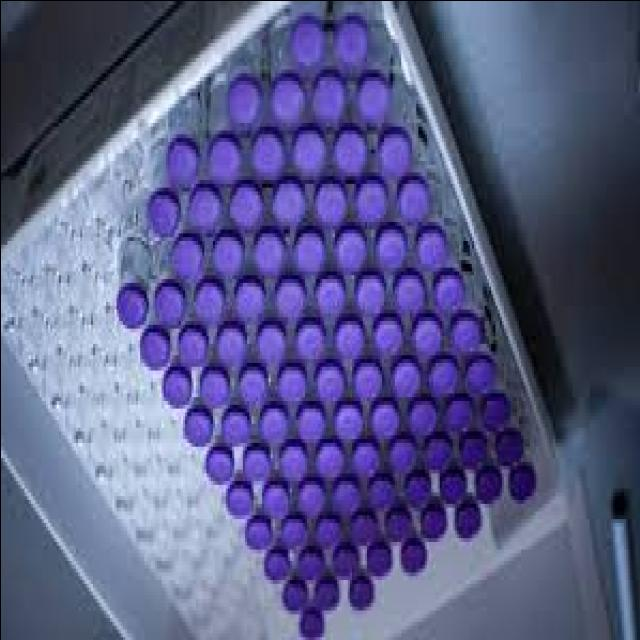vial: (306, 76, 343, 122), (289, 22, 325, 68), (335, 18, 367, 68), (290, 130, 326, 174), (112, 280, 146, 325), (272, 184, 305, 230), (355, 81, 386, 128), (337, 140, 368, 186), (233, 182, 260, 234), (254, 230, 282, 280), (186, 192, 224, 228), (391, 189, 427, 227), (208, 136, 236, 184), (332, 317, 363, 360), (354, 274, 384, 318), (226, 78, 252, 128), (444, 306, 478, 344), (275, 364, 307, 404), (154, 286, 184, 328), (394, 362, 424, 404), (461, 358, 491, 400), (293, 318, 320, 364), (137, 325, 167, 365), (212, 237, 242, 277), (269, 89, 303, 123), (202, 448, 234, 484), (197, 278, 220, 328), (200, 370, 230, 408), (248, 132, 278, 170), (315, 276, 345, 314), (311, 190, 345, 223), (168, 144, 196, 184), (408, 399, 438, 436), (333, 398, 358, 442), (162, 368, 188, 410), (296, 230, 322, 272), (417, 506, 449, 540), (376, 232, 406, 268), (314, 362, 342, 400), (423, 360, 453, 395), (261, 406, 287, 446), (336, 233, 362, 273), (332, 476, 359, 514), (275, 278, 299, 320), (370, 404, 398, 440), (357, 184, 385, 220), (452, 506, 479, 543), (381, 141, 408, 178), (491, 433, 524, 463), (298, 404, 324, 442), (327, 546, 355, 581), (221, 408, 248, 444), (258, 328, 285, 364), (452, 433, 482, 465), (436, 276, 464, 310), (374, 321, 399, 359), (262, 476, 284, 518), (240, 362, 262, 404), (436, 466, 464, 499), (504, 466, 532, 499), (414, 321, 440, 356), (346, 581, 374, 613), (180, 328, 206, 362), (394, 276, 420, 310), (356, 368, 382, 401), (220, 326, 242, 364), (428, 434, 450, 472), (182, 410, 208, 442), (400, 470, 426, 502), (442, 397, 467, 430), (238, 284, 262, 318), (154, 198, 176, 235), (281, 445, 303, 482), (417, 237, 444, 267), (244, 515, 270, 545), (364, 544, 390, 574), (178, 240, 198, 278), (355, 442, 375, 480), (318, 442, 340, 476), (352, 512, 374, 546), (401, 543, 424, 575), (390, 444, 416, 472), (388, 512, 410, 545), (482, 396, 506, 426), (224, 483, 246, 515), (302, 486, 324, 518), (369, 476, 391, 508), (246, 447, 266, 481), (261, 551, 285, 577), (476, 474, 498, 502), (316, 578, 334, 612), (316, 516, 334, 550), (300, 551, 319, 583), (286, 520, 306, 550), (303, 613, 323, 640), (284, 586, 302, 610)
